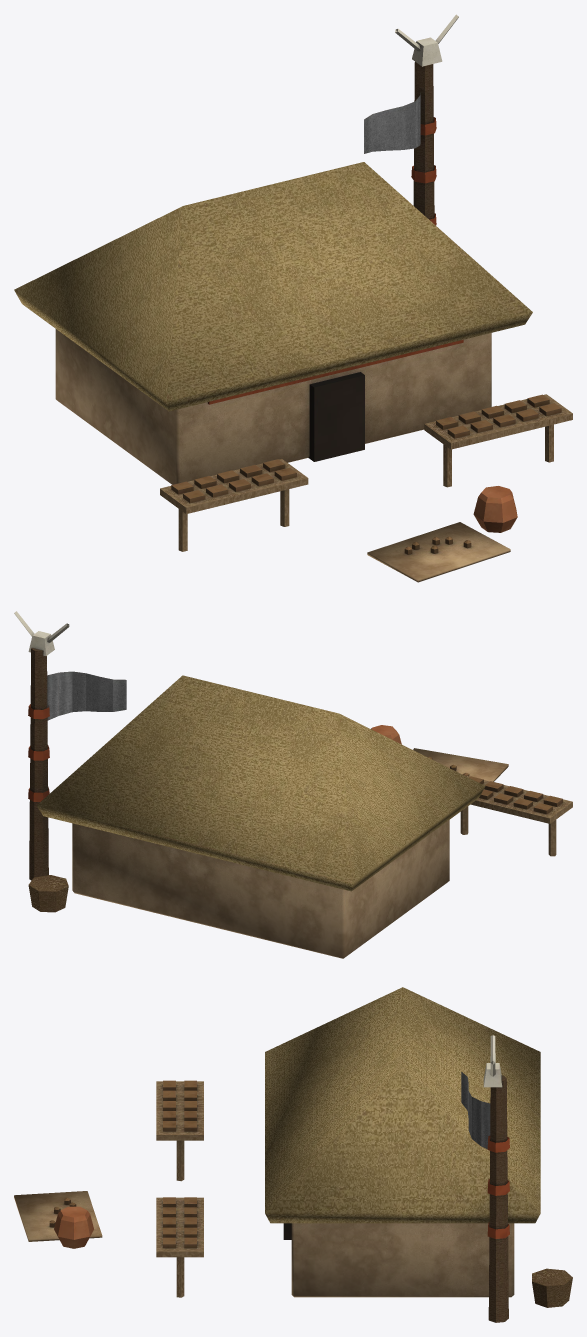
File: tablet_house.glb
3 views of the same model, one above another, from view 1: azimuth 30°, elevation 25°; view 2: azimuth 150°, elevation 25°; view 3: azimuth 270°, elevation 25° (orthographic). The views are drawn at different scales.
Parts seen in each view (by area): view 1: LOD0; view 2: LOD0; view 3: LOD0.
Boxes of the visible parts, left/top/right/bottom form: LOD0: left=14, top=14, right=572, bottom=582; LOD0: left=14, top=611, right=572, bottom=958; LOD0: left=14, top=987, right=572, bottom=1322.
Size of what is drawn, in the model's own units: 0.903 by 0.563 by 1.05.
2 materials, 2 textured.
